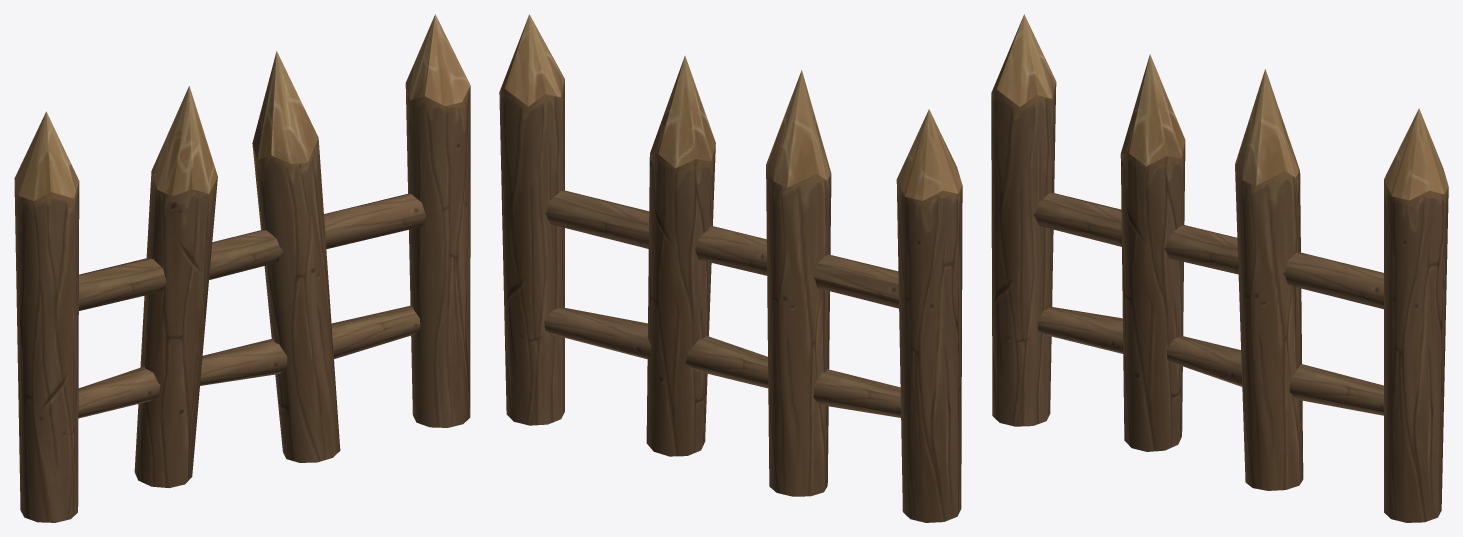
File: Camp1_Barricade2.fbx
The picture shows the model from 3 angles, left to right: view 1: azimuth 30°, elevation 25°; view 2: azimuth 150°, elevation 25°; view 3: azimuth 330°, elevation 25°; orthographic projection.
Parts seen in each view (by area): view 1: polySurface154; view 2: polySurface154; view 3: polySurface154.
Part boxes in pixels (x1,y1,x2,y2): polySurface154: (14, 14, 470, 522); polySurface154: (499, 14, 962, 522); polySurface154: (991, 14, 1448, 522).
Bounding box in the file's own units: 159 × 135 × 25.31.
Materials: 1 (1 with a texture image).
